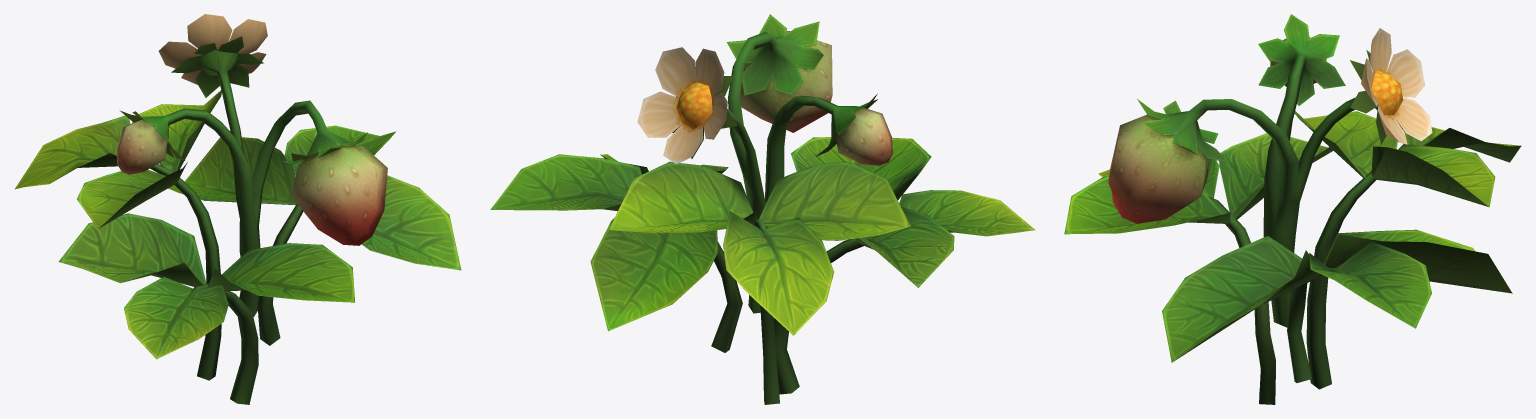
The model's file is strawberry_3.FBX.
3 renders of one model, left to right at view 1: azimuth 30°, elevation 25°; view 2: azimuth 150°, elevation 25°; view 3: azimuth 270°, elevation 25°, orthographic. The views are drawn at different scales.
Visible parts, largest first — view 1: strawberry_3; view 2: strawberry_3; view 3: strawberry_3.
Boxes of the visible parts, left/top/right/bottom form: strawberry_3: left=15, top=14, right=461, bottom=404; strawberry_3: left=490, top=14, right=1034, bottom=404; strawberry_3: left=1064, top=14, right=1521, bottom=404.
Bounding box in the file's own units: 85.16 × 76.88 × 83.28.
Materials: 1 (1 with a texture image).
